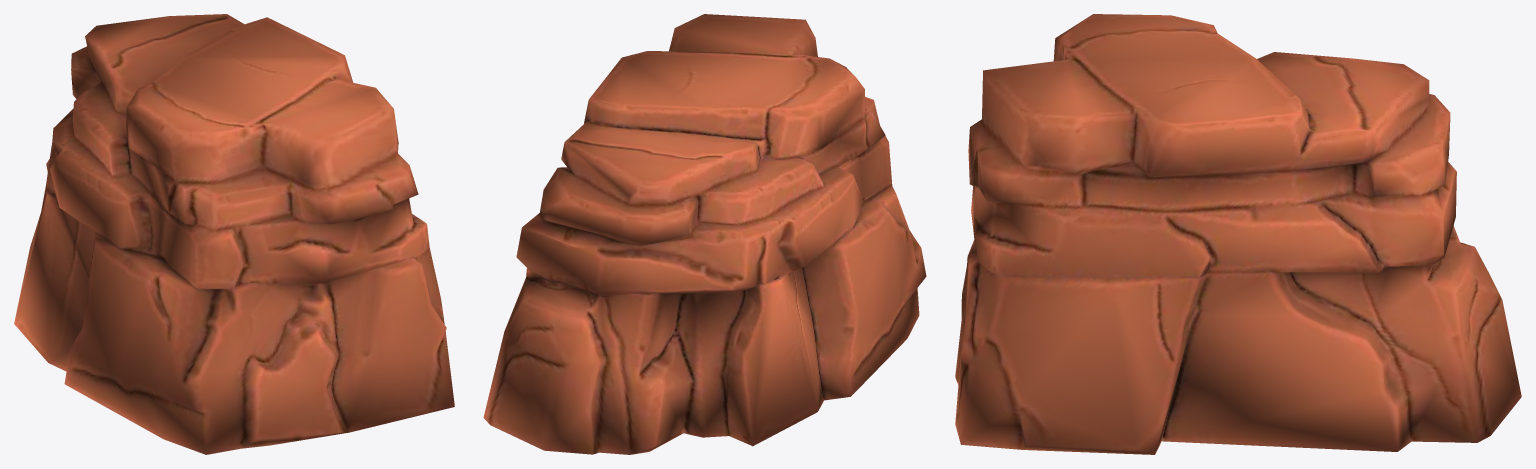
The model's file is gorge-cliff-5.glb.
3 renders of one model, left to right at view 1: azimuth 30°, elevation 25°; view 2: azimuth 150°, elevation 25°; view 3: azimuth 270°, elevation 25°, orthographic. The views are drawn at different scales.
Visible parts, largest first — view 1: GorgeCliff5; view 2: GorgeCliff5; view 3: GorgeCliff5.
Boxes of the visible parts, box(x1,y1,x2,y2) form: GorgeCliff5: box(14, 14, 454, 454); GorgeCliff5: box(483, 14, 926, 454); GorgeCliff5: box(955, 14, 1521, 454).
Size of the model in its own units: 2.25 by 2.07 by 3.4.
Materials: 1 (1 with a texture image).
